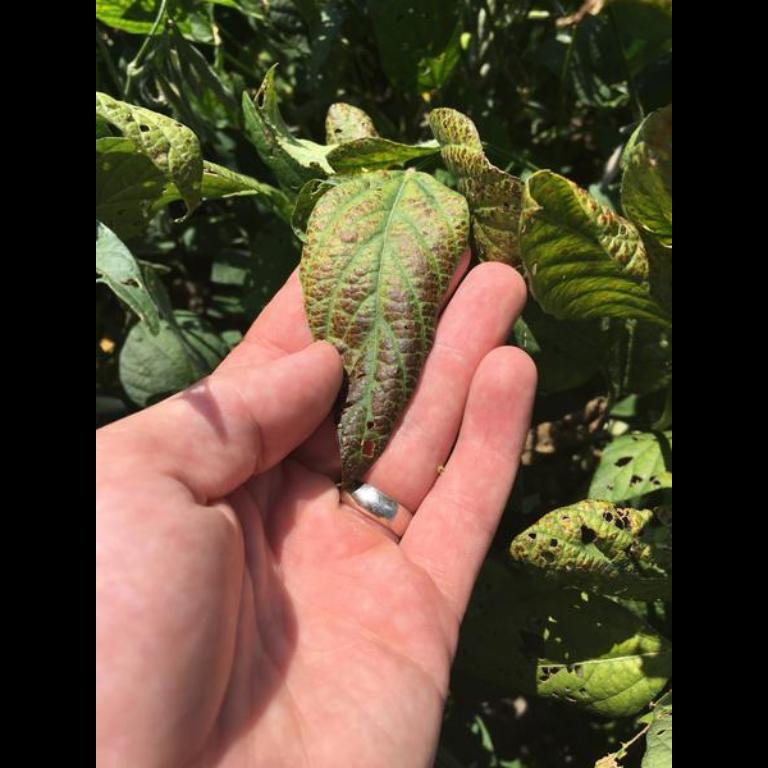blight: (338, 202, 432, 344)
